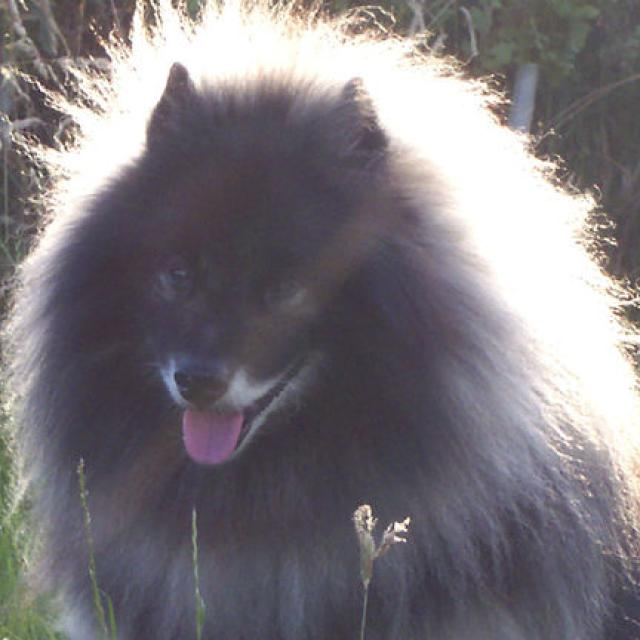dog-keeshond: (6, 1, 637, 637)
